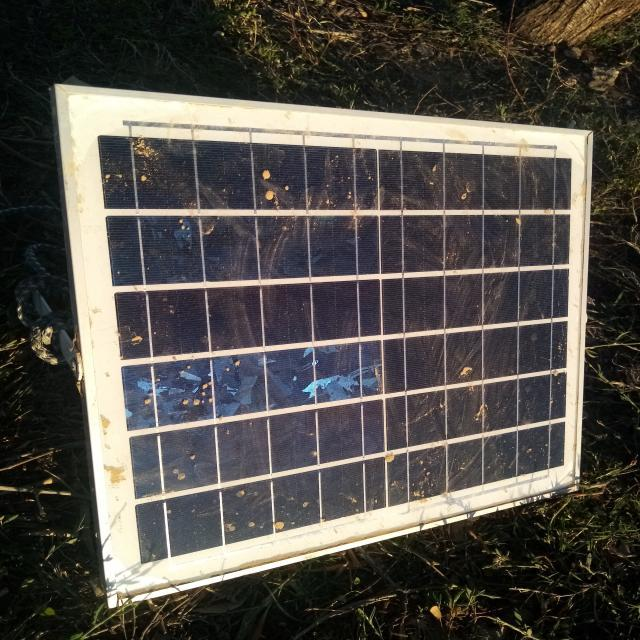faulty: (59, 85, 591, 600)
